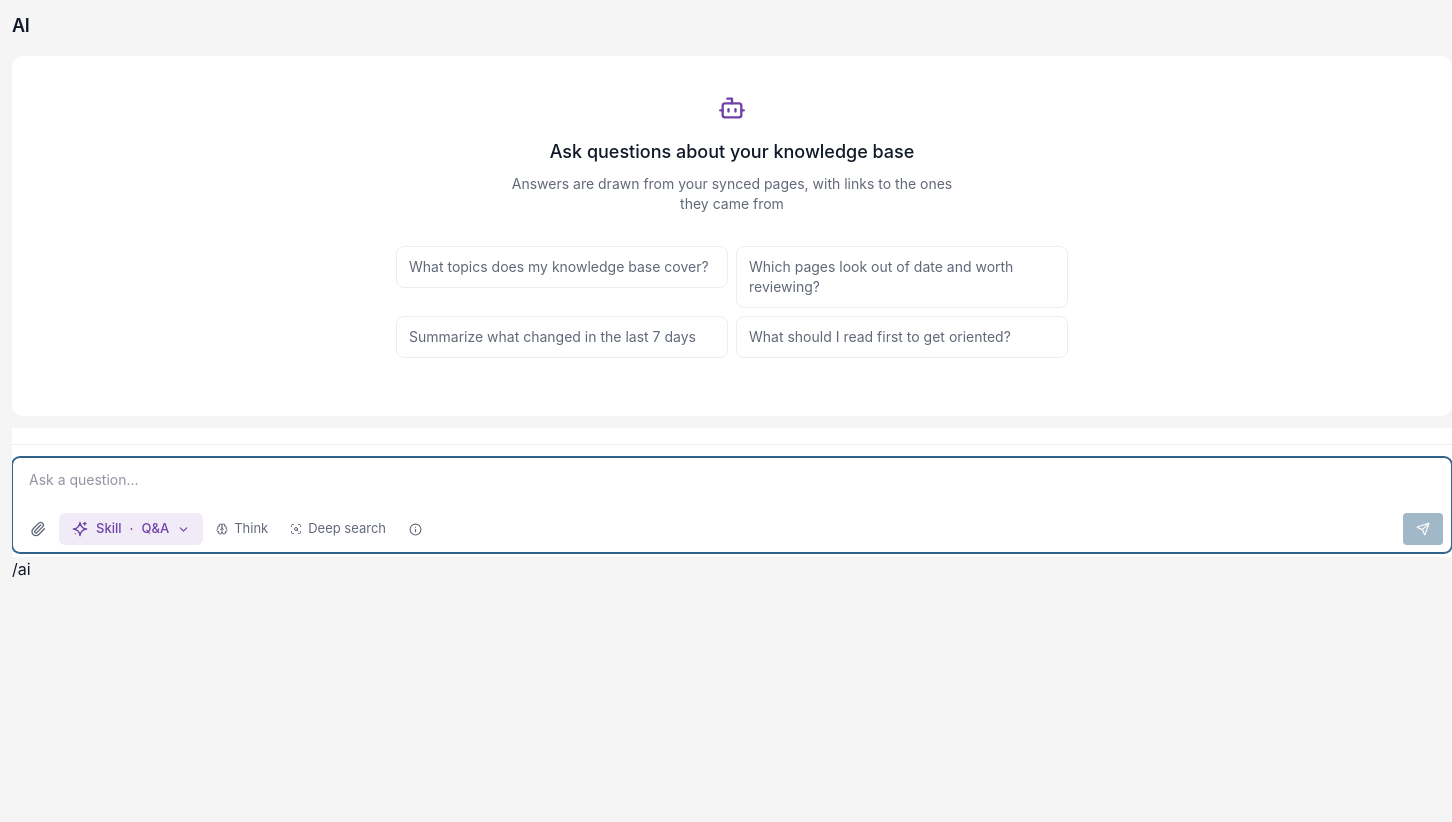
Test: AiAssistantPage › ask mode › names the permission from the backend 403 message, not a hardcoded one
Type "Improve this" into the text box with placeholder "Ask a question..." at (732, 484), box [21, 464, 1443, 504]
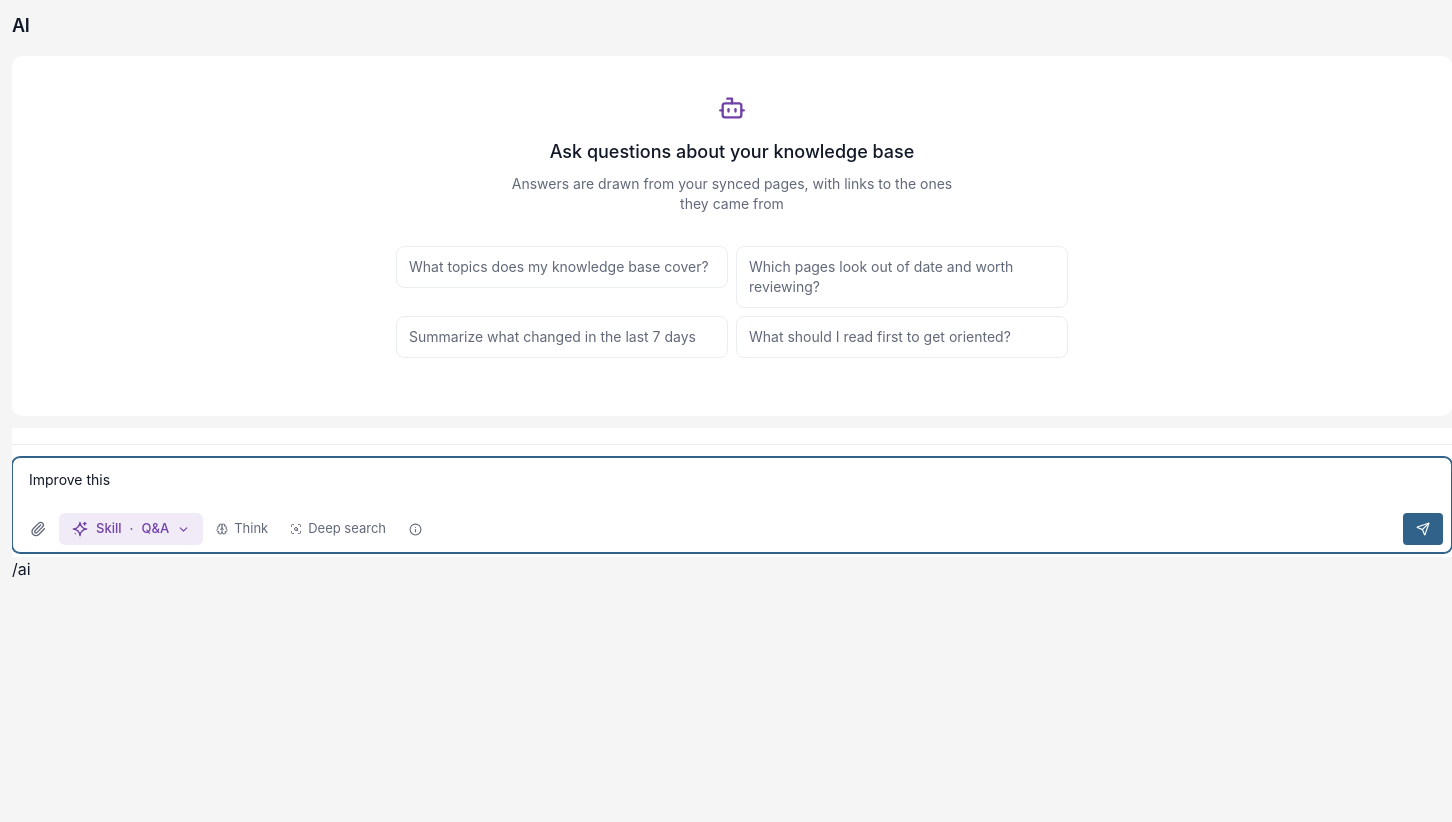
Press Enter in the text box with placeholder "Ask a question...", box [21, 464, 1443, 504]
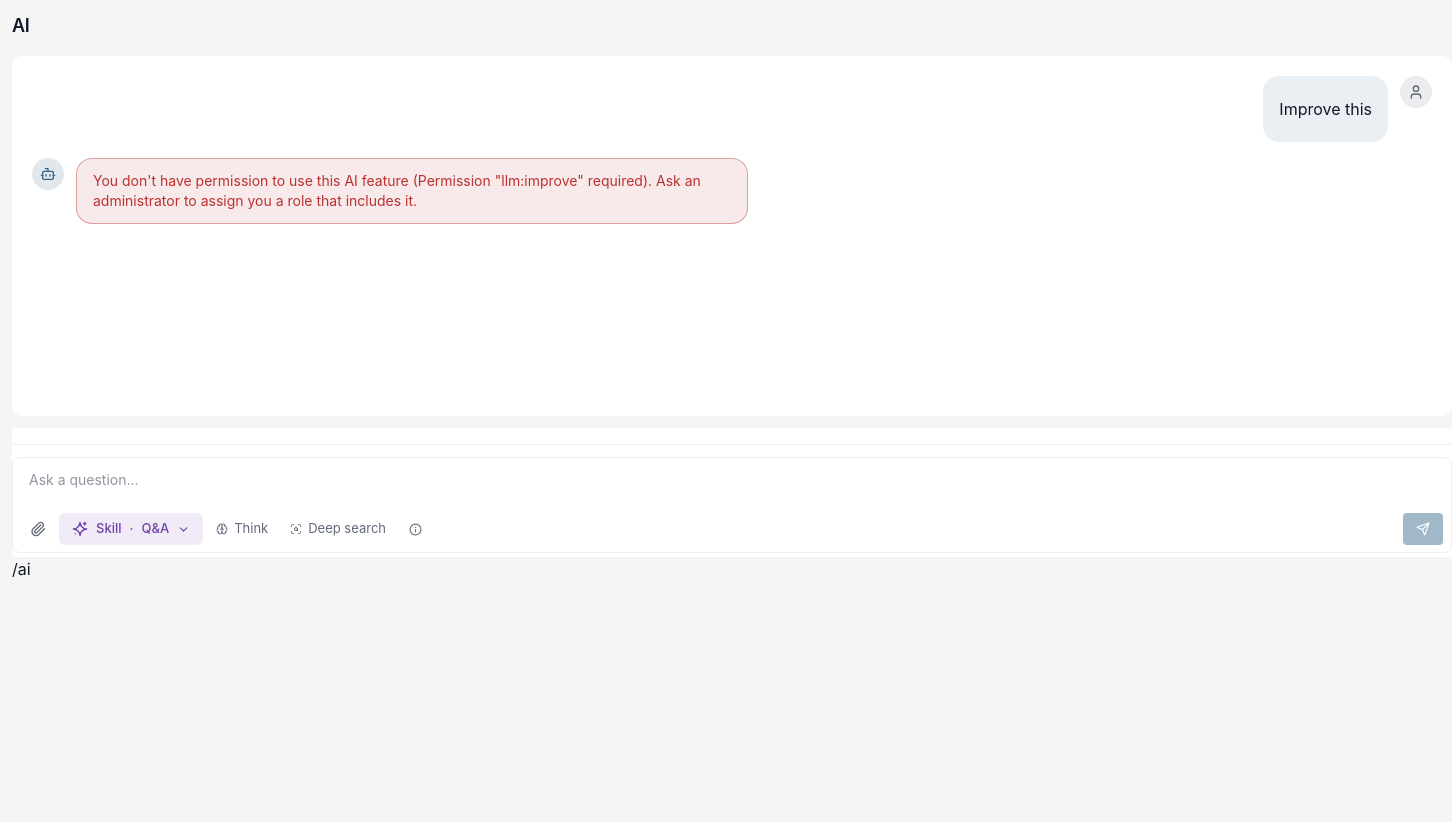
Result: the element with test id "message-error" is shown at [76, 158, 748, 224]
Result: the element with test id "message-error" shows "llm:improve" at [93, 172, 701, 209]
Result: the element with test id "message-error" shows "administrator" at [93, 172, 701, 209]
